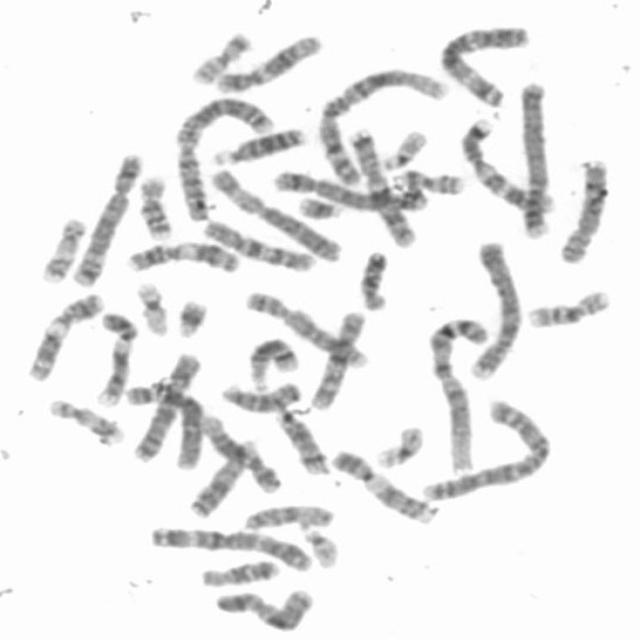A1: (315, 68, 450, 186), (428, 315, 492, 479)
A2: (420, 397, 554, 505), (176, 98, 276, 223)
A3: (436, 25, 535, 109), (149, 527, 312, 574)
B4: (468, 240, 524, 384), (517, 82, 550, 240)
B5: (70, 152, 146, 289), (273, 169, 429, 213)
C10: (200, 219, 320, 274), (310, 308, 368, 410)
C11: (26, 293, 104, 385), (126, 239, 244, 276)
C12: (214, 33, 324, 95), (198, 416, 283, 494)
C6: (210, 169, 346, 263), (126, 383, 205, 472)
C7: (458, 118, 559, 217), (348, 131, 419, 250)
C8: (244, 288, 372, 372), (557, 157, 612, 266)
C9: (330, 449, 438, 525), (94, 310, 139, 408)
D13: (188, 440, 259, 519), (211, 125, 308, 167)
D14: (272, 406, 332, 478), (246, 337, 300, 393)
D15: (220, 382, 304, 414), (243, 505, 335, 533)
E16: (526, 290, 614, 330), (136, 174, 173, 240)
E17: (46, 397, 128, 447), (41, 216, 87, 284)
E18: (198, 560, 283, 588), (357, 251, 388, 312)
F19: (373, 425, 424, 470), (135, 280, 170, 339)
F20: (190, 30, 252, 86), (401, 167, 464, 196)
G21: (172, 299, 214, 338), (297, 196, 347, 222)
G22: (382, 127, 431, 171), (300, 523, 341, 572)
X: (132, 348, 204, 464), (214, 590, 316, 632)
